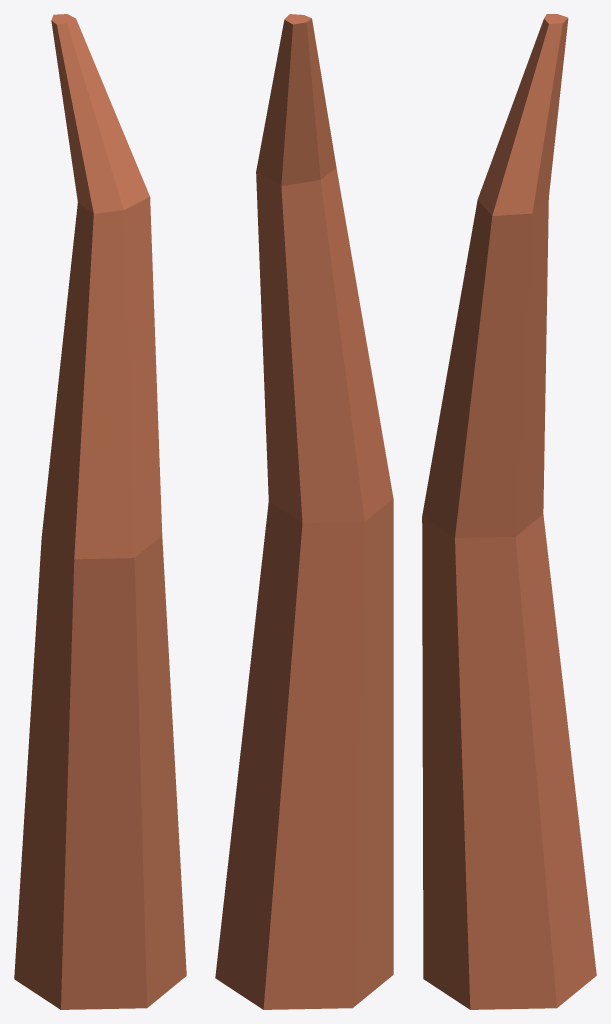
File: Tree_08_spring_mat.fbx
The picture shows the model from 3 angles, left to right: view 1: azimuth 30°, elevation 25°; view 2: azimuth 150°, elevation 25°; view 3: azimuth 270°, elevation 25°; orthographic projection. The views are drawn at different scales.
Visible parts, largest first — view 1: Tree_08_spring_mat; view 2: Tree_08_spring_mat; view 3: Tree_08_spring_mat.
Part boxes in pixels (left/top/right/bottom): Tree_08_spring_mat: left=14, top=14, right=186, bottom=1009; Tree_08_spring_mat: left=215, top=14, right=393, bottom=1009; Tree_08_spring_mat: left=422, top=14, right=596, bottom=1009.
Bounding box in the file's own units: 22.5 × 153 × 25.47.
